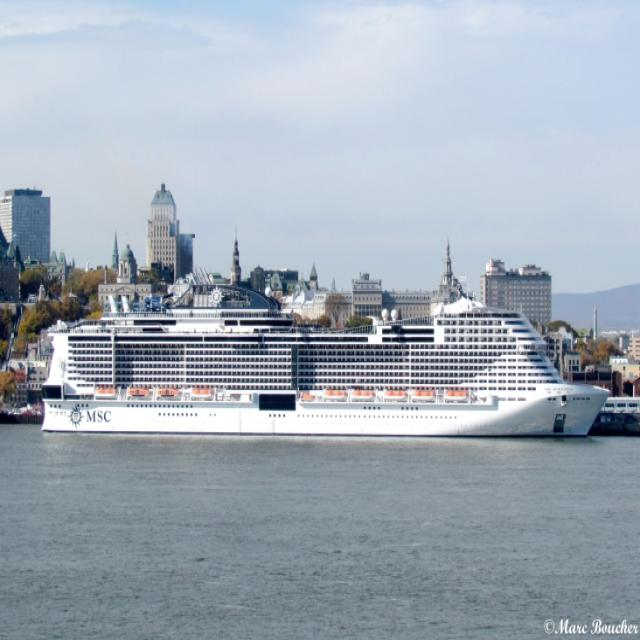cruises: (37, 293, 616, 447)
